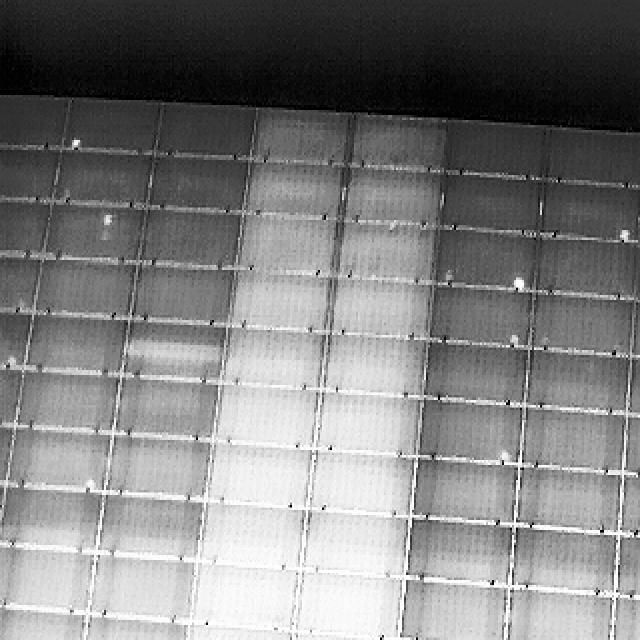Hotspots: (92, 208, 118, 232), (66, 131, 94, 153), (482, 568, 506, 589), (75, 476, 99, 496), (505, 273, 529, 292), (505, 332, 526, 351), (0, 350, 20, 368)
PV-modules: (288, 567, 404, 640), (406, 518, 516, 594), (310, 388, 425, 459), (205, 442, 315, 516), (413, 397, 523, 471), (421, 337, 531, 411), (85, 549, 198, 621), (509, 526, 618, 600), (193, 502, 304, 574), (516, 406, 625, 478), (298, 511, 409, 581), (227, 263, 332, 337), (410, 458, 521, 528), (304, 450, 416, 519), (512, 466, 619, 538), (94, 495, 202, 566), (6, 424, 115, 494), (429, 282, 538, 352), (318, 331, 425, 402), (189, 560, 300, 628), (212, 383, 319, 453), (524, 344, 631, 414), (102, 436, 213, 503), (221, 325, 328, 394), (526, 292, 632, 361), (14, 371, 122, 438), (118, 317, 226, 384), (530, 234, 635, 302), (237, 208, 339, 278), (0, 480, 102, 550), (430, 228, 538, 294), (113, 377, 219, 444), (325, 274, 432, 340), (396, 577, 508, 640), (331, 220, 434, 288), (30, 257, 137, 322), (336, 165, 441, 231), (20, 312, 128, 376), (47, 147, 151, 213), (534, 178, 640, 242), (130, 263, 237, 326), (240, 159, 345, 223), (140, 204, 244, 268), (438, 120, 548, 180), (437, 172, 542, 234), (0, 542, 90, 614), (536, 128, 640, 190), (500, 585, 616, 640), (41, 201, 144, 261), (147, 155, 250, 214), (150, 104, 256, 161), (342, 114, 444, 172), (247, 108, 349, 165), (63, 100, 163, 158), (0, 95, 66, 153), (78, 610, 188, 640), (0, 602, 84, 640), (0, 144, 54, 200), (0, 198, 48, 260), (178, 617, 292, 640), (0, 254, 39, 316), (608, 530, 640, 602), (0, 312, 27, 371), (618, 473, 640, 545), (610, 592, 640, 640), (620, 412, 640, 482), (1, 358, 20, 426), (624, 352, 640, 422), (282, 632, 396, 640), (628, 298, 640, 368), (632, 242, 640, 310), (388, 637, 504, 640), (636, 130, 640, 195), (638, 185, 640, 250)
